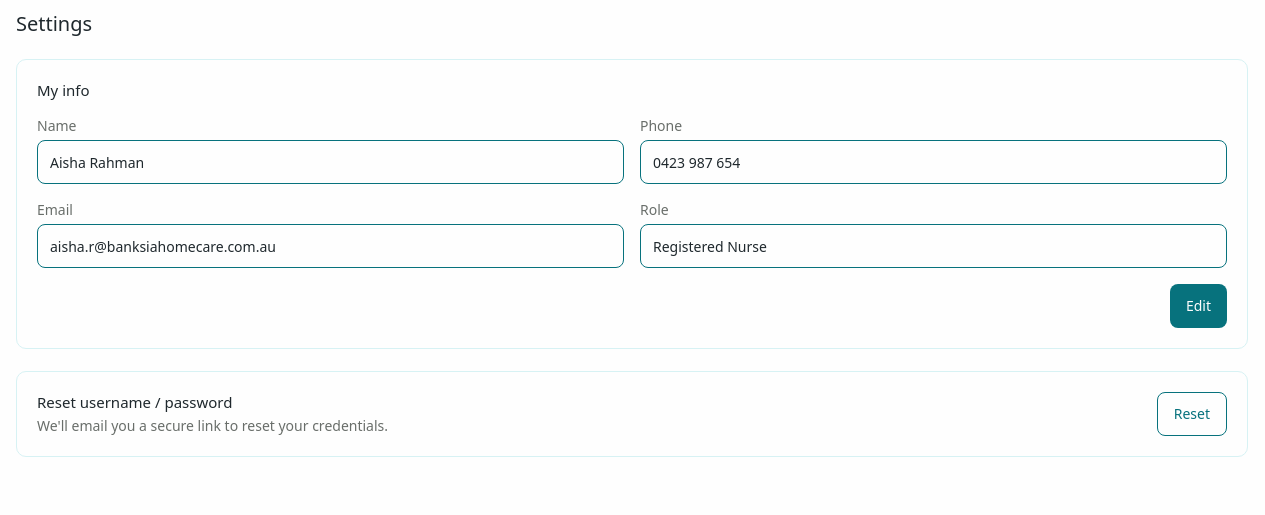
Test case: [CAR-09][AC-05] a failed save is reported, not hidden › [CAR-09][AC-05] a rejected action (network error) is a failed save, not a crash
Click the button "Edit" at x=1198, y=306, box [1170,284,1227,328]
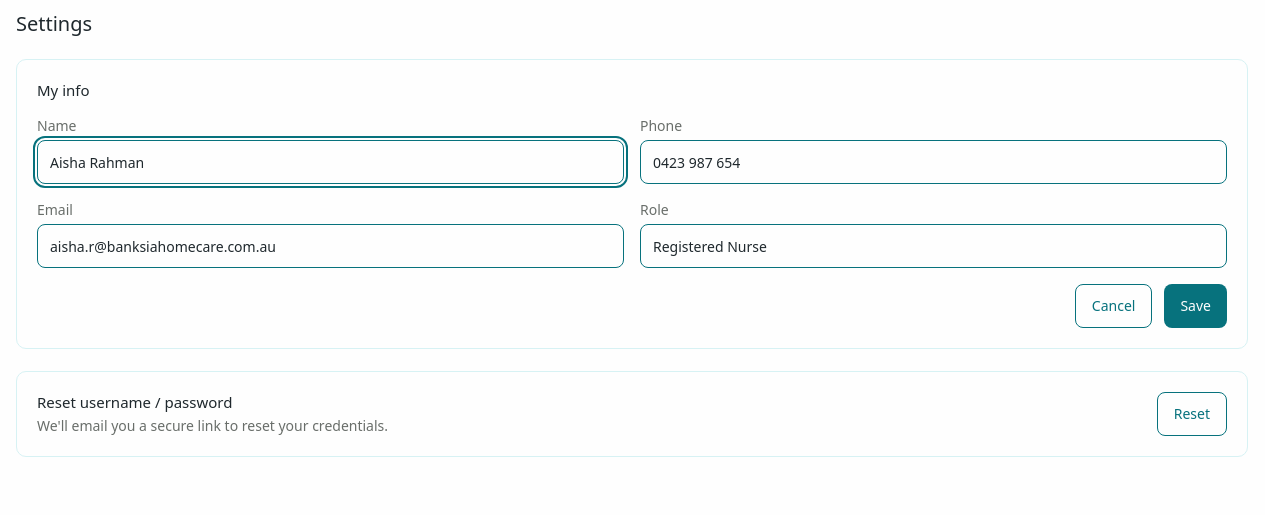
Click the button "Save" at x=1196, y=306, box [1164,284,1227,328]
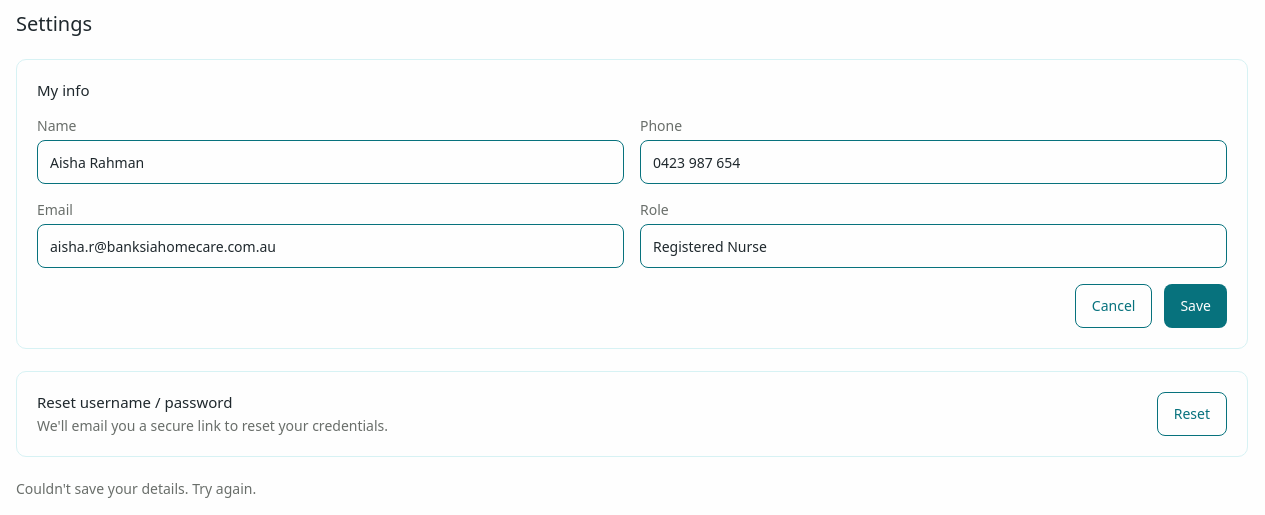
Check: the text "Couldn't save your details. Try again." is shown, box [16,479,256,498]
